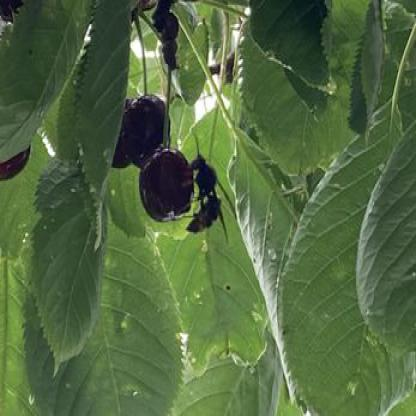Asian Hornet: (182, 137, 225, 256)
